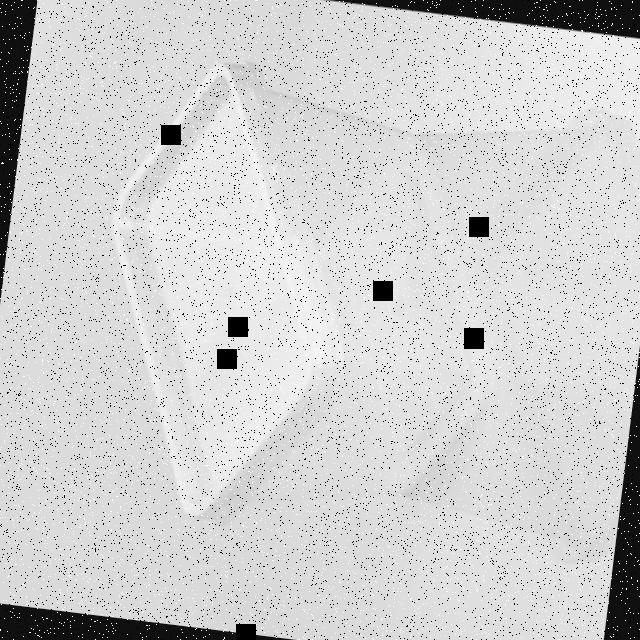plastic_box: (75, 40, 535, 552)
